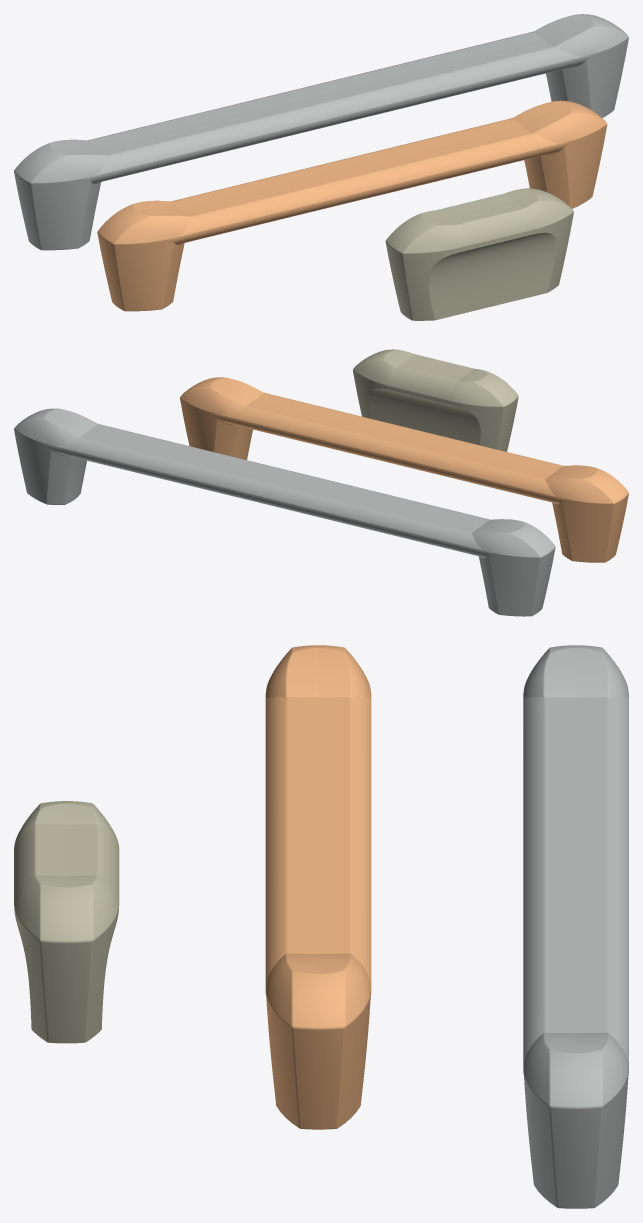
The picture shows the model from 3 angles, top to bottom: view 1: azimuth 30°, elevation 25°; view 2: azimuth 150°, elevation 25°; view 3: azimuth 270°, elevation 25°; orthographic projection. The views are drawn at different scales.
Visible parts, largest first — view 1: FC003-160-A, FC003-128-A, Knob_3_20220514; view 2: FC003-160-A, FC003-128-A, Knob_3_20220514; view 3: FC003-160-A, FC003-128-A, Knob_3_20220514.
Boxes of the visible parts, box(x1,y1,x2,y2) form: FC003-160-A: box(14, 14, 628, 250); FC003-128-A: box(97, 100, 607, 311); Knob_3_20220514: box(385, 188, 573, 320); FC003-160-A: box(14, 408, 555, 616); FC003-128-A: box(180, 377, 628, 562); Knob_3_20220514: box(353, 349, 518, 451); FC003-160-A: box(523, 645, 628, 1208); FC003-128-A: box(265, 645, 371, 1129); Knob_3_20220514: box(14, 801, 119, 1043).
Size of the model in its own units: 183 by 26.71 by 105.
